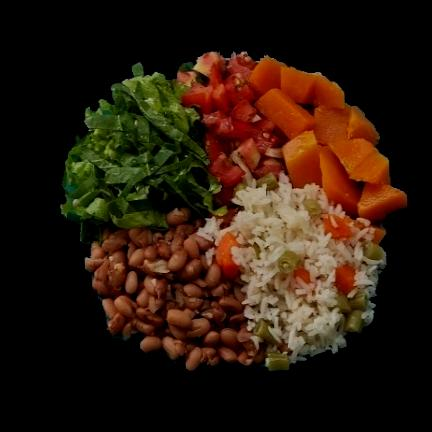beans: (85, 222, 264, 365)
rice: (203, 173, 386, 369)
salad: (61, 63, 222, 242)
tomato: (176, 51, 290, 204)
